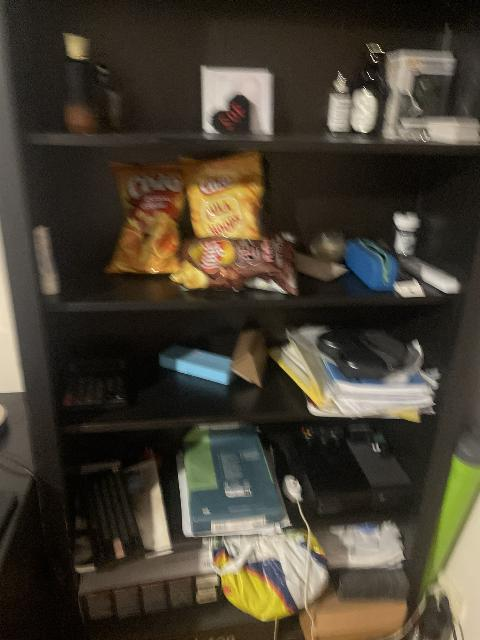Chio Cascaval 125g: (102, 161, 189, 277)
Chio Hula Hoops Cheese 70g: (180, 150, 267, 244)
Lays Beef Grilled Ribs 125g: (173, 230, 298, 292)
